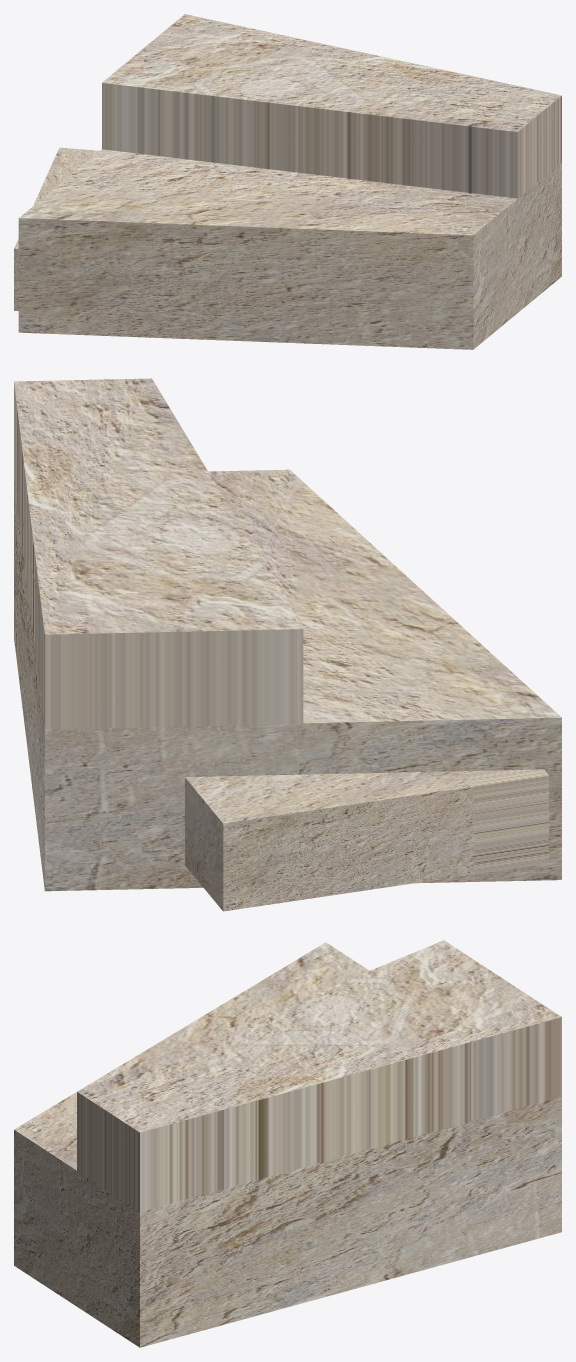
Rendered from MALBA-OLD.gltf.
The picture shows the model from 3 angles, top to bottom: view 1: azimuth 30°, elevation 25°; view 2: azimuth 150°, elevation 25°; view 3: azimuth 270°, elevation 25°; orthographic projection. The views are drawn at different scales.
Parts seen in each view (by area): view 1: MALBA; view 2: MALBA; view 3: MALBA.
Boxes of the visible parts, left/top/right/bottom form: MALBA: left=14, top=14, right=561, bottom=349; MALBA: left=14, top=378, right=561, bottom=911; MALBA: left=14, top=940, right=561, bottom=1347.
Size of the model in its own units: 1.27 by 0.4719 by 1.09.
Materials: 1 (1 with a texture image).
